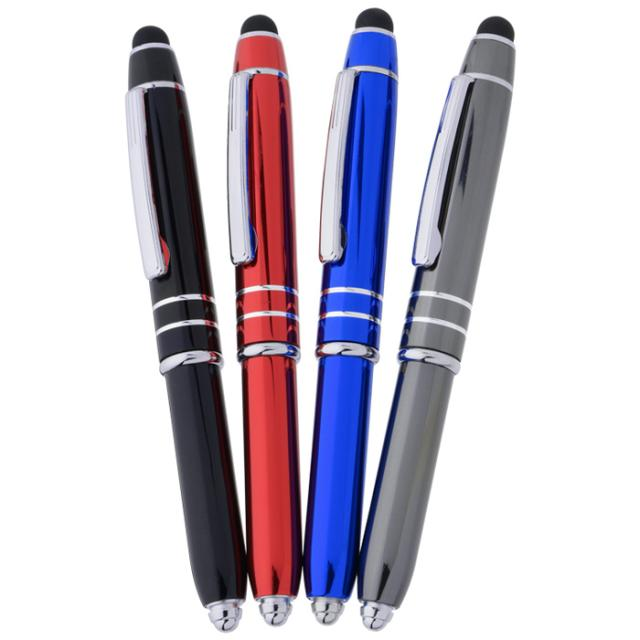pen: (108, 10, 522, 631)
